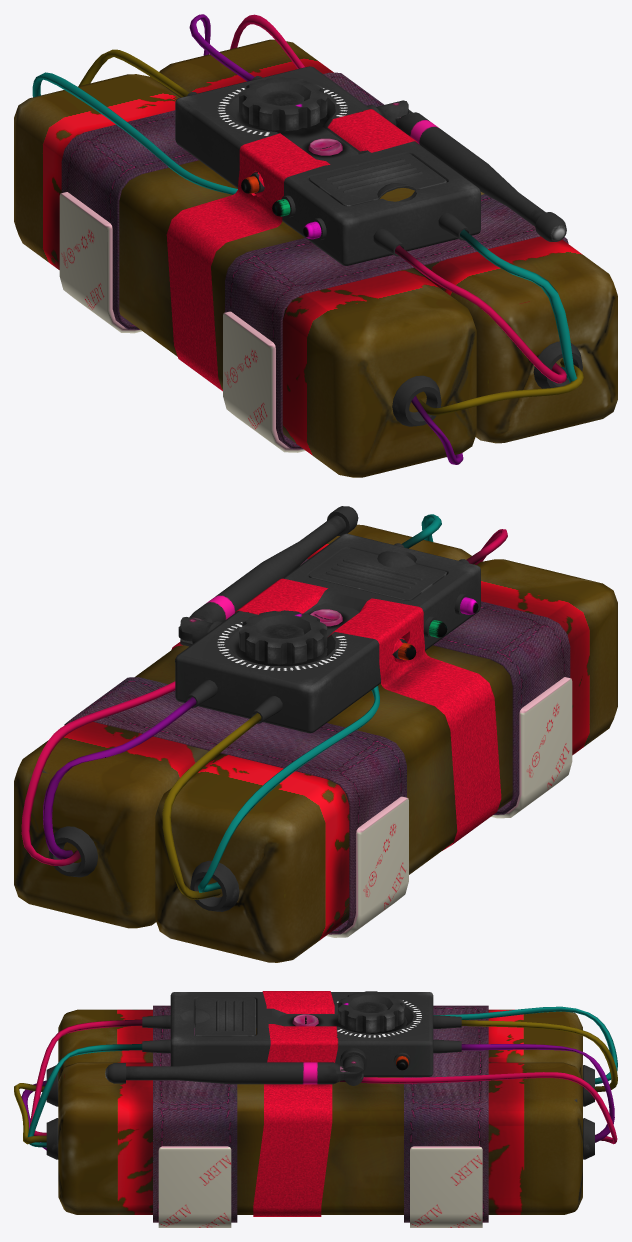
File: TimerBomb.fbx
The picture shows the model from 3 angles, top to bottom: view 1: azimuth 30°, elevation 25°; view 2: azimuth 150°, elevation 25°; view 3: azimuth 270°, elevation 25°; orthographic projection. The views are drawn at different scales.
Parts seen in each view (by area): view 1: pCube32; view 2: pCube32; view 3: pCube32.
Boxes of the visible parts, x1,y1,x2,y2 form: pCube32: (14,14,617,477); pCube32: (14,506,617,962); pCube32: (14,991,617,1227).
Size of the model in its own units: 0.3044 by 0.2193 by 0.6851.
1 material, 1 textured.
